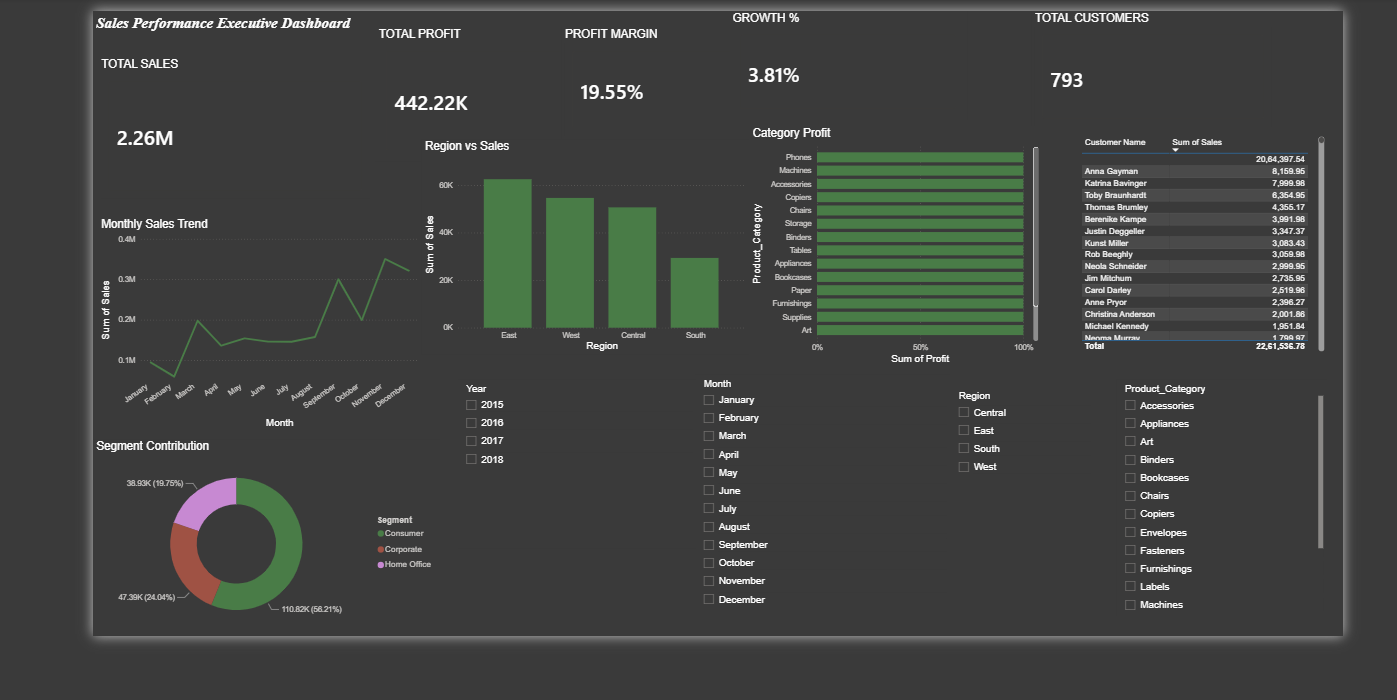

Layout of this report page (visuals, bound fields, positions):
{"tool":"powerbi","page":{"name":"Page 1","canvas":[2000,1000],"ordinal":0},"visuals":[{"type":"cardVisual","title":"TOTAL SALES","fields":{"Data":["Sheet1.Total Sales KPI"]},"box":[8.9,73.3,439.6,230.9],"z":0},{"type":"cardVisual","title":"TOTAL PROFIT","fields":{"Data":["Sheet1.Total Profit KPI"]},"box":[451.9,26.4,364.7,214.1],"z":1000},{"type":"cardVisual","title":"PROFIT MARGIN","fields":{"Data":["Sheet1.Profit Margin KPI"]},"box":[750.5,26.4,428.1,179.7],"z":2000},{"type":"cardVisual","title":"GROWTH %","fields":{"Data":["Sheet1.Growth KPI"]},"box":[1017.4,0,380.5,174.4],"z":3000},{"type":"cardVisual","title":"TOTAL CUSTOMERS","fields":{"Data":["Sheet1.Total Customers KPI"]},"box":[1501.1,0,388.5,190.3],"z":4000},{"type":"lineChart","title":"Monthly Sales Trend","fields":{"Category":["Sheet1.Order Date.Variation.Date Hierarchy.Month"],"Y":["Sum(Sheet1.Sales)"]},"box":[8.9,330.8,517.3,341.9],"z":5000},{"type":"clusteredColumnChart","title":"Region vs Sales","fields":{"Category":["Sheet1.Region"],"Y":["Sum(Sheet1.Sales)"]},"box":[525.9,206.1,523.3,343.6],"z":6000},{"type":"hundredPercentStackedBarChart","title":"Category Profit ","fields":{"Category":["Sheet1.Product_Category"],"Y":["Sum(Sheet1.Profit)"]},"box":[1049.2,185,467.8,385.8],"z":7000},{"type":"tableEx","fields":{"Values":["Sheet1.Customer Name","Sum(Sheet1.Sales)"]},"box":[1575.1,195.6,399,354.1],"z":8000},{"type":"donutChart","title":"Segment Contribution","fields":{"Category":["Sheet1.Segment"],"Y":["Sum(Sheet1.Sales)"]},"box":[0,686.1,555.1,313.1],"z":9000},{"type":"slicer","fields":{"Values":["Sheet1.Order Date.Variation.Date Hierarchy.Year"]},"box":[584.8,588.5,203.6,377.5],"z":10000},{"type":"slicer","fields":{"Values":["Sheet1.Region"]},"box":[1178.8,601.4,136.9,340.5],"z":11000},{"type":"slicer","fields":{"Values":["Sheet1.Product_Category"]},"box":[964.1,577.4,175.8,388.6],"z":12000},{"type":"slicer","fields":{"Values":["Sheet1.Order Date.Variation.Date Hierarchy.Month"]},"box":[762.4,577.4,201.7,403.4],"z":13000},{"type":"textbox","box":[0,0,451.9,44.9],"z":14000},{"type":"lineChart","title":"Monthly Sales Trend - forecast preview","fields":{"Y":["Sum(Sheet1.Sales)"],"Category":["Sheet1.Order Date.Variation.Date Hierarchy.Year","Sheet1.Order Date.Variation.Date Hierarchy.Quarter","Sheet1.Order Date.Variation.Date Hierarchy.Month","Sheet1.Order Date.Variation.Date Hierarchy.Day"]},"box":[1371.2,605.1,518.1,342.3],"z":15000}]}

Visuals, with their boxes in screenshot pixels (x1, y1, x2, y2), scaled from the page's 2000x1000 canvas onto the 1397x700 screenshot:
"TOTAL SALES" cardVisual: {"left": 6, "top": 51, "right": 313, "bottom": 213}
"TOTAL PROFIT" cardVisual: {"left": 316, "top": 18, "right": 570, "bottom": 168}
"PROFIT MARGIN" cardVisual: {"left": 524, "top": 18, "right": 823, "bottom": 144}
"GROWTH %" cardVisual: {"left": 711, "top": 0, "right": 976, "bottom": 122}
"TOTAL CUSTOMERS" cardVisual: {"left": 1049, "top": 0, "right": 1320, "bottom": 133}
"Monthly Sales Trend" lineChart: {"left": 6, "top": 232, "right": 368, "bottom": 471}
"Region vs Sales" clusteredColumnChart: {"left": 367, "top": 144, "right": 733, "bottom": 385}
"Category Profit " hundredPercentStackedBarChart: {"left": 733, "top": 130, "right": 1060, "bottom": 400}
tableEx - Sheet1.Customer Name x Sum(Sheet1.Sales): {"left": 1100, "top": 137, "right": 1379, "bottom": 385}
"Segment Contribution" donutChart: {"left": 0, "top": 480, "right": 388, "bottom": 699}
slicer - Sheet1.Order Date.Variation.Date Hierarchy.Year: {"left": 408, "top": 412, "right": 551, "bottom": 676}
slicer - Sheet1.Region: {"left": 823, "top": 421, "right": 919, "bottom": 659}
slicer - Sheet1.Product_Category: {"left": 673, "top": 404, "right": 796, "bottom": 676}
slicer - Sheet1.Order Date.Variation.Date Hierarchy.Month: {"left": 533, "top": 404, "right": 673, "bottom": 687}
textbox: {"left": 0, "top": 0, "right": 316, "bottom": 31}
"Monthly Sales Trend - forecast preview" lineChart: {"left": 958, "top": 424, "right": 1320, "bottom": 663}
